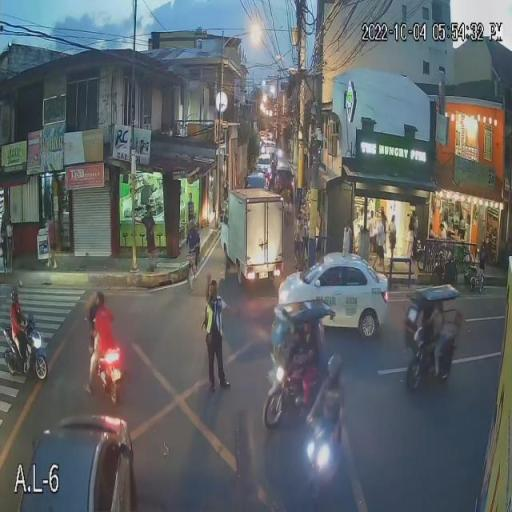helmet: (326, 354, 342, 374), (9, 290, 21, 304)
motorcycle: (262, 300, 336, 429), (402, 284, 464, 392), (300, 382, 354, 502), (0, 314, 49, 380), (84, 328, 125, 406)
rider: (308, 354, 346, 446), (86, 292, 116, 380), (282, 326, 316, 399), (9, 289, 35, 366), (410, 307, 438, 368)
